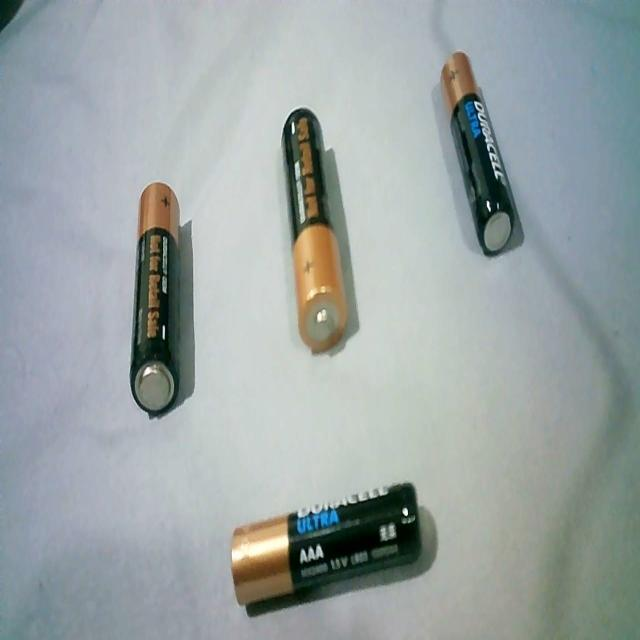AA: (279, 100, 351, 358), (128, 175, 186, 421)
AAA: (227, 468, 428, 612), (434, 43, 520, 260)
